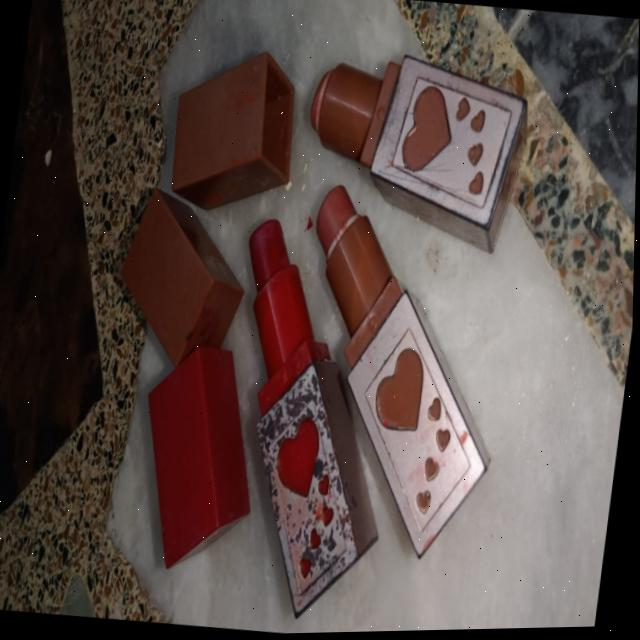lip stick: (200, 229, 507, 606), (92, 174, 237, 571), (299, 48, 533, 225)
